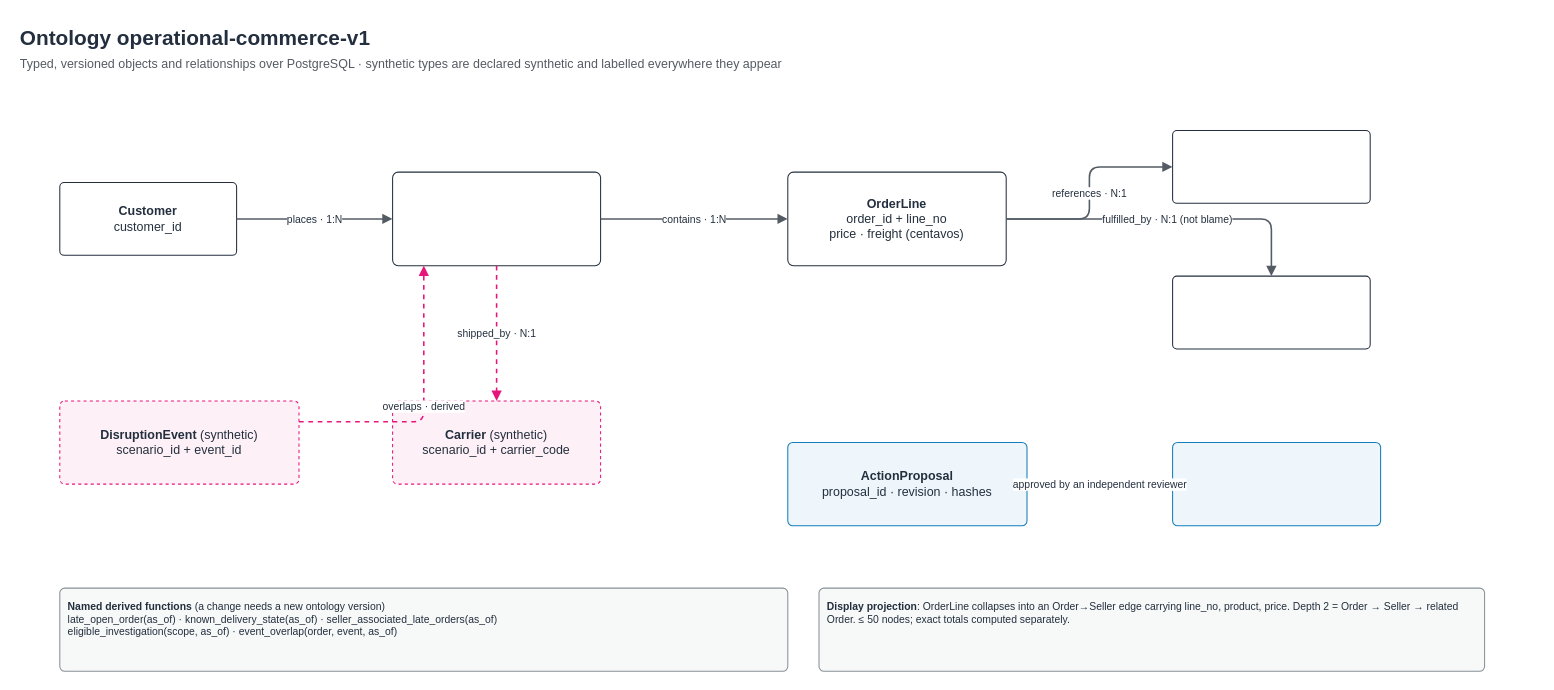
The diagram is 1554 pixels wide and 690 high, and some of its shapes have lost their labels. Here are the shapes that lost their labels. From the top down, the centre of each, then its label:
At (1271,166): "Product product_id · category".
At (496,218): "Order order_id · timestamps (masked at as_of)".
At (1271,312): "Seller seller_id · state".
At (1276,483): "InvestigationCase case_id · case_key".
